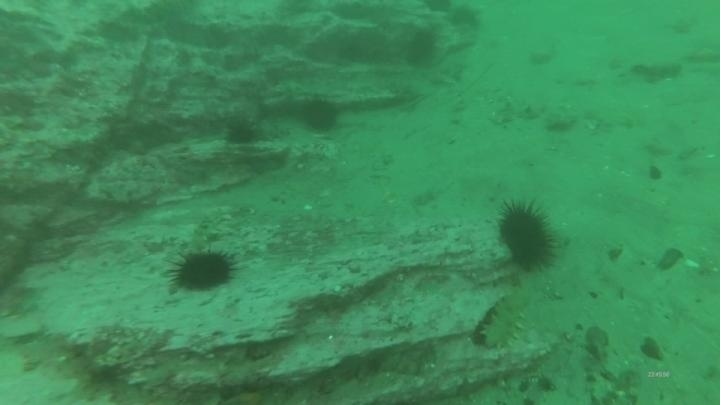echinus: (494, 197, 561, 274), (167, 245, 239, 295), (299, 95, 342, 136), (401, 26, 441, 70), (222, 116, 262, 148), (445, 3, 484, 33)
holothurian: (478, 284, 535, 353)
